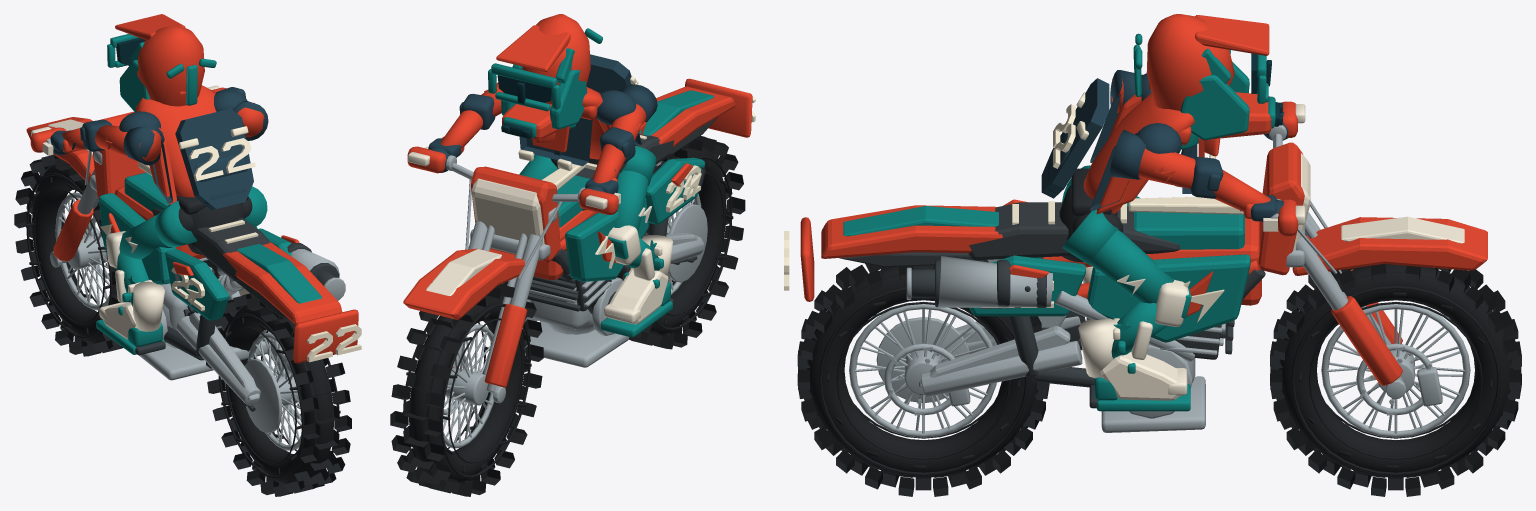
The model's file is hero-bike-rider.glb.
3 views of the same model, side by side, from view 1: azimuth 30°, elevation 25°; view 2: azimuth 150°, elevation 25°; view 3: azimuth 270°, elevation 25° (orthographic). The views are drawn at different scales.
Parts seen in each view (by area): view 1: RearWheel_Rubber, FrontWheel_Rubber, BikeStatic_PlasticTeal, RiderTorso_RiderArmor, BikeStatic_PlasticCoral, RiderHead_PlasticCoral, BikeStatic_MetalDark, BikeSteering_PlasticCoral, RiderLeftLeg_PlasticTeal, RearWheel_MetalBright, RearSuspension_MetalBright, BikeStatic_MetalBright (+15 smaller); view 2: FrontWheel_Rubber, BikeSteering_PlasticCoral, RearWheel_Rubber, BikeStatic_PlasticTeal, BikeSteering_PlateCream, BikeStatic_MetalBright, BikeStatic_PlasticCoral, RiderHead_PlasticCoral, BikeSteering_MetalBright, RiderLeftLeg_PlateCream, RiderLeftLeg_PlasticTeal, RiderHead_PlasticTeal (+13 smaller); view 3: FrontWheel_Rubber, RearWheel_Rubber, BikeStatic_PlasticTeal, BikeSteering_PlasticCoral, BikeStatic_MetalDark, RearWheel_MetalBright, BikeStatic_MetalBright, BikeStatic_PlasticCoral, RiderHead_PlasticCoral, FrontWheel_MetalBright, RiderRightLeg_PlasticTeal, RiderRightLeg_PlateCream (+11 smaller).
Part boxes in pixels (box(x1,y1,x2,y2)): RearWheel_Rubber: box(206, 293, 351, 496); FrontWheel_Rubber: box(14, 154, 130, 356); BikeStatic_PlasticTeal: box(98, 172, 322, 320); RiderTorso_RiderArmor: box(119, 90, 253, 210); BikeStatic_PlasticCoral: box(108, 186, 358, 363); RiderHead_PlasticCoral: box(115, 14, 204, 106); BikeStatic_MetalDark: box(114, 208, 338, 411); BikeSteering_PlasticCoral: box(26, 87, 226, 261); RiderLeftLeg_PlasticTeal: box(96, 200, 196, 354); RearWheel_MetalBright: box(244, 333, 301, 450); RearSuspension_MetalBright: box(176, 274, 291, 405); BikeStatic_MetalBright: box(116, 249, 345, 380); FrontWheel_Rubber: box(390, 284, 543, 496); BikeSteering_PlasticCoral: box(403, 146, 618, 387); RearWheel_Rubber: box(617, 136, 745, 349); BikeStatic_PlasticTeal: box(557, 90, 714, 281); BikeSteering_PlateCream: box(408, 146, 620, 296); BikeStatic_MetalBright: box(502, 277, 629, 367); BikeStatic_PlasticCoral: box(534, 78, 752, 280); RiderHead_PlasticCoral: box(496, 14, 590, 139); BikeSteering_MetalBright: box(446, 155, 585, 403); RiderLeftLeg_PlateCream: box(604, 206, 672, 324); RiderLeftLeg_PlasticTeal: box(600, 146, 672, 337); RiderHead_PlasticTeal: box(488, 28, 602, 137); FrontWheel_Rubber: box(1270, 264, 1521, 496); RearWheel_Rubber: box(797, 263, 1049, 496); BikeStatic_PlasticTeal: box(843, 206, 1250, 342); BikeSteering_PlasticCoral: box(1258, 101, 1487, 385); BikeStatic_MetalDark: box(839, 202, 1265, 408); RearWheel_MetalBright: box(849, 304, 996, 437); BikeStatic_MetalBright: box(906, 256, 1225, 432); BikeStatic_PlasticCoral: box(800, 199, 1261, 316); RiderHead_PlasticCoral: box(1146, 14, 1271, 138); FrontWheel_MetalBright: box(1321, 304, 1470, 437); RiderRightLeg_PlasticTeal: box(1062, 209, 1191, 411); RiderRightLeg_PlateCream: box(1078, 275, 1189, 400).
Bounding box in the file's own units: 1.4 × 2.58 × 3.69.
